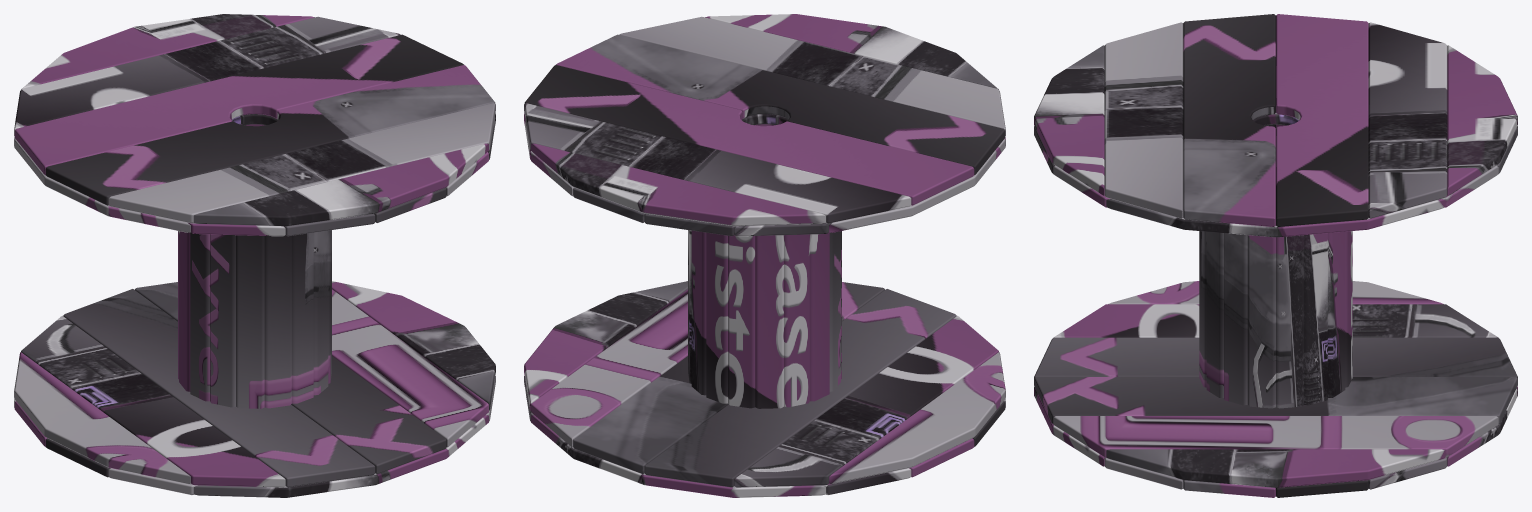
File: SM_WoodCableReelHIGH.fbx
3 views of the same model, side by side, from view 1: azimuth 30°, elevation 25°; view 2: azimuth 150°, elevation 25°; view 3: azimuth 270°, elevation 25° (orthographic).
Visible parts, largest first — view 1: Wood Reel sides HI, Wood Reel middle HI; view 2: Wood Reel sides HI, Wood Reel middle HI; view 3: Wood Reel sides HI, Wood Reel middle HI.
Boxes of the visible parts, x1,y1,x2,y2 form: Wood Reel sides HI: (14, 14, 495, 497); Wood Reel middle HI: (178, 124, 331, 408); Wood Reel sides HI: (524, 14, 1005, 497); Wood Reel middle HI: (688, 124, 841, 408); Wood Reel sides HI: (1034, 14, 1517, 497); Wood Reel middle HI: (1199, 124, 1352, 408).
Size of the model in its own units: 125 by 125 by 80.
